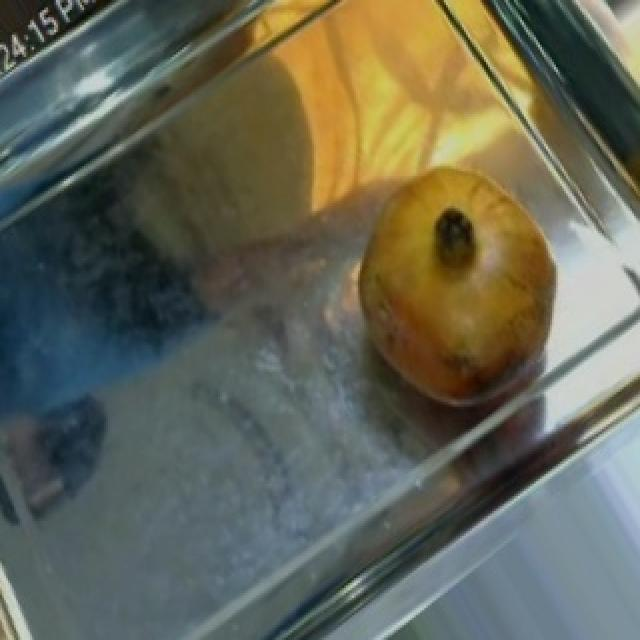fruit: (330, 139, 582, 434)
